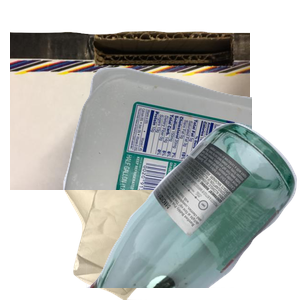cardboard: (10, 29, 250, 209)
glass: (86, 120, 300, 300)
plastic: (60, 65, 300, 245)
trash: (62, 120, 251, 300)
